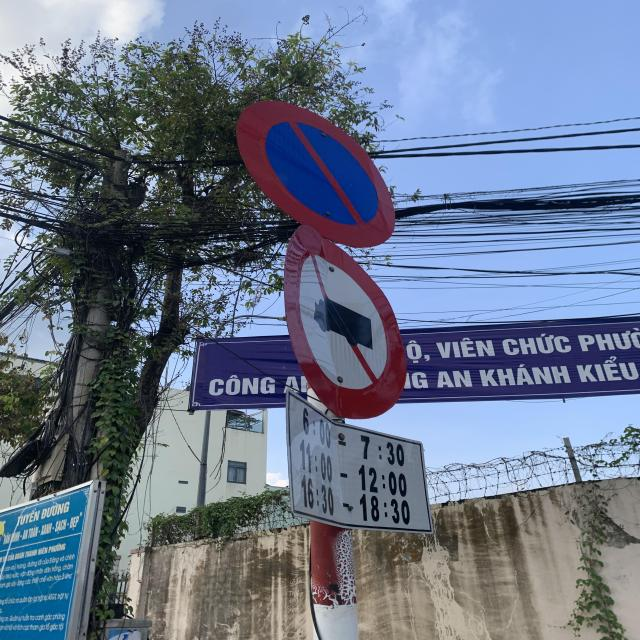Cam_Dau_Xe: (237, 99, 397, 248)
Cam_Xe_Tai: (284, 225, 409, 421)
